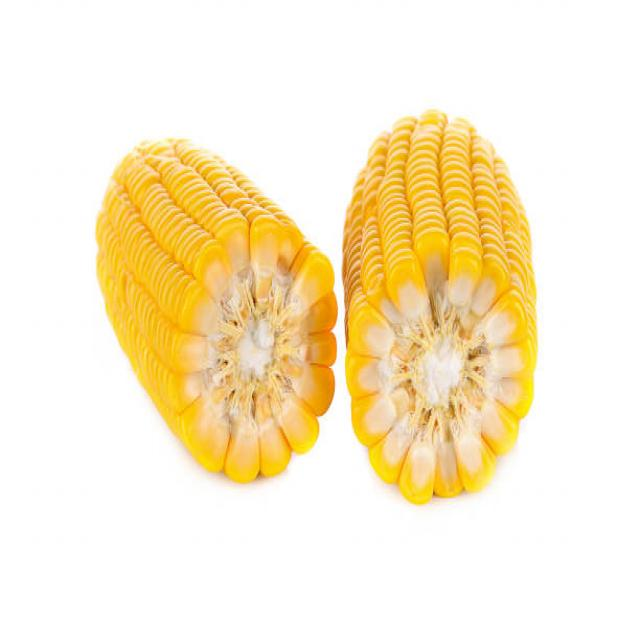Corn ear: (91, 131, 337, 487), (337, 107, 538, 499)
